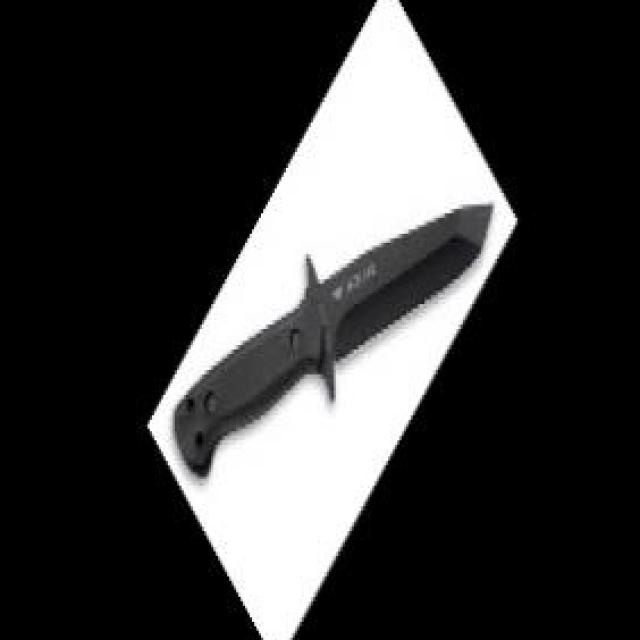knife: (170, 204, 495, 477)
